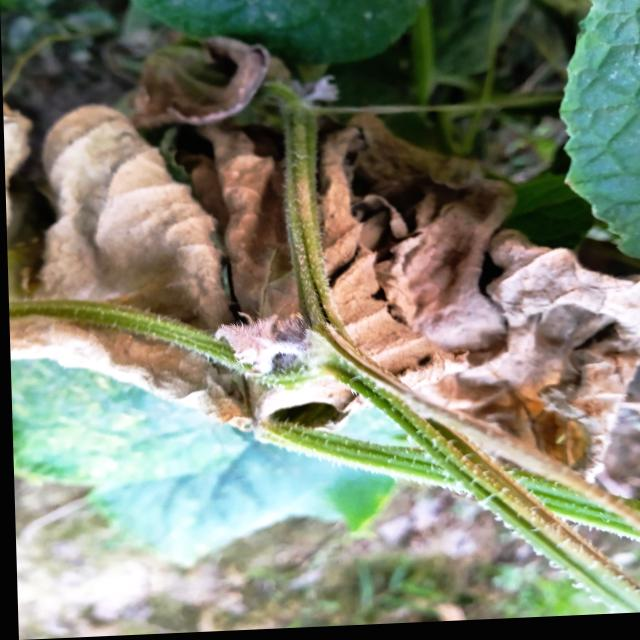Bacterial-Wilt: (6, 37, 640, 495)
